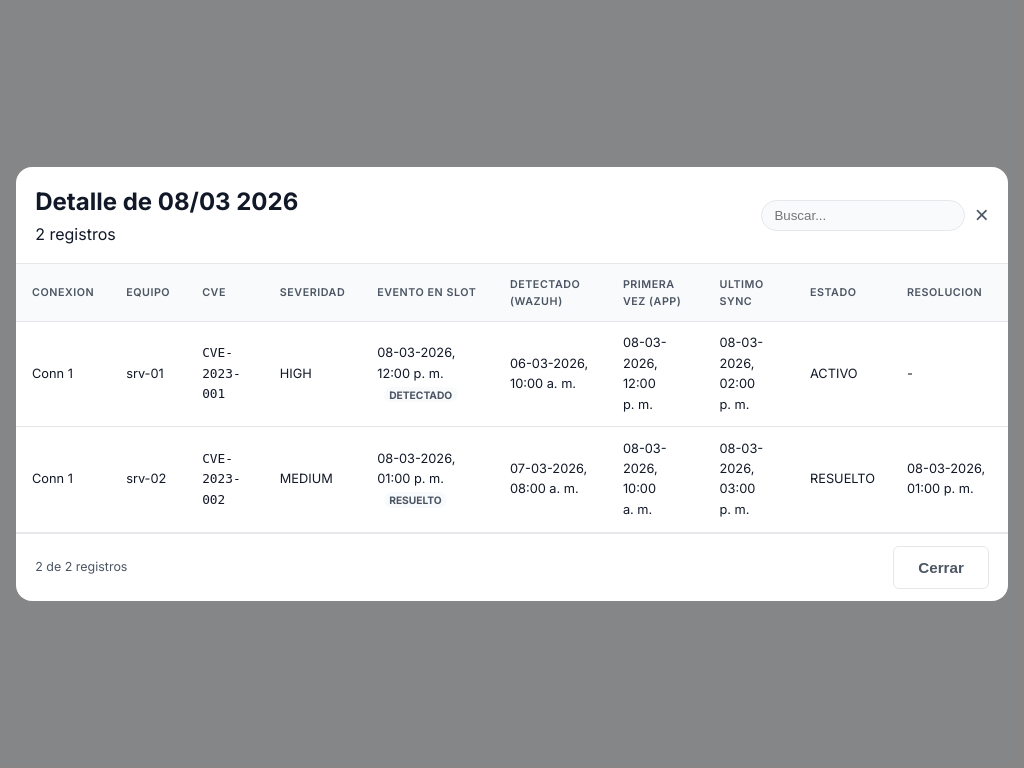
Scenario: TimelineDetailModal.vue › shows empty state when no results match search
Type "xyznotfound" into the field with class "modal-search".
click(863, 215); type("xyznotfound")  # box [761,200,965,231]
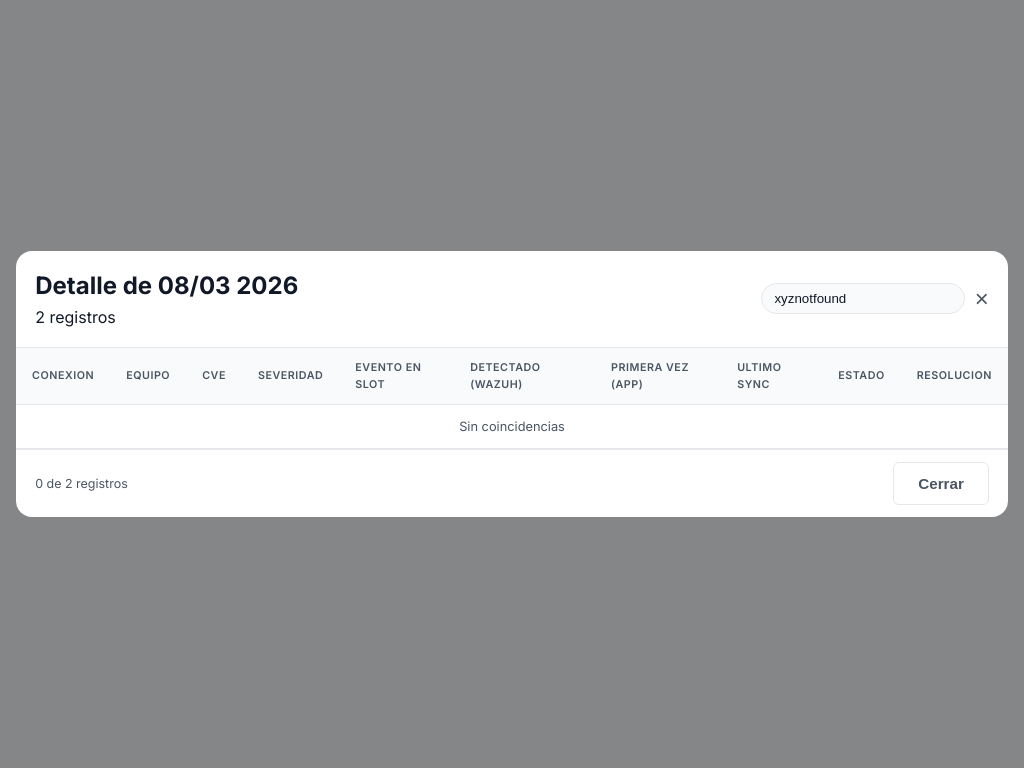
expect the text "Sin coincidencias" is shown: met, box [16,405,1008,449]
